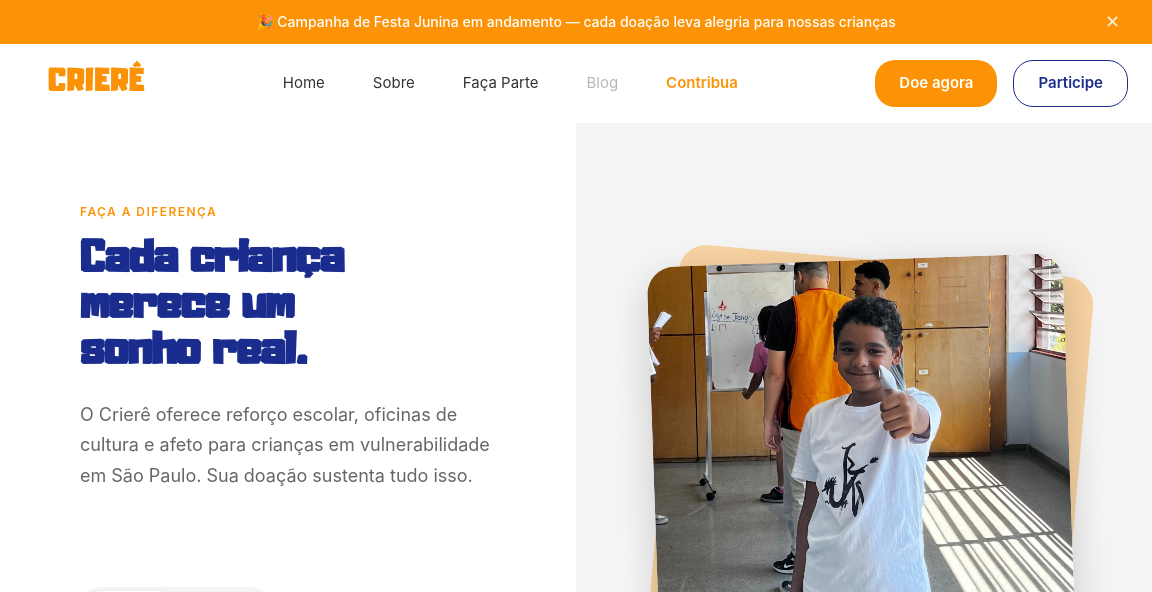
Test case: Donation page — campaign banner › hides the banner when the close button is clicked
The width and height of the screenshot is (1152, 592).
Click the button named "Fechar aviso" at (1112, 22), box [1097,9,1128,35]
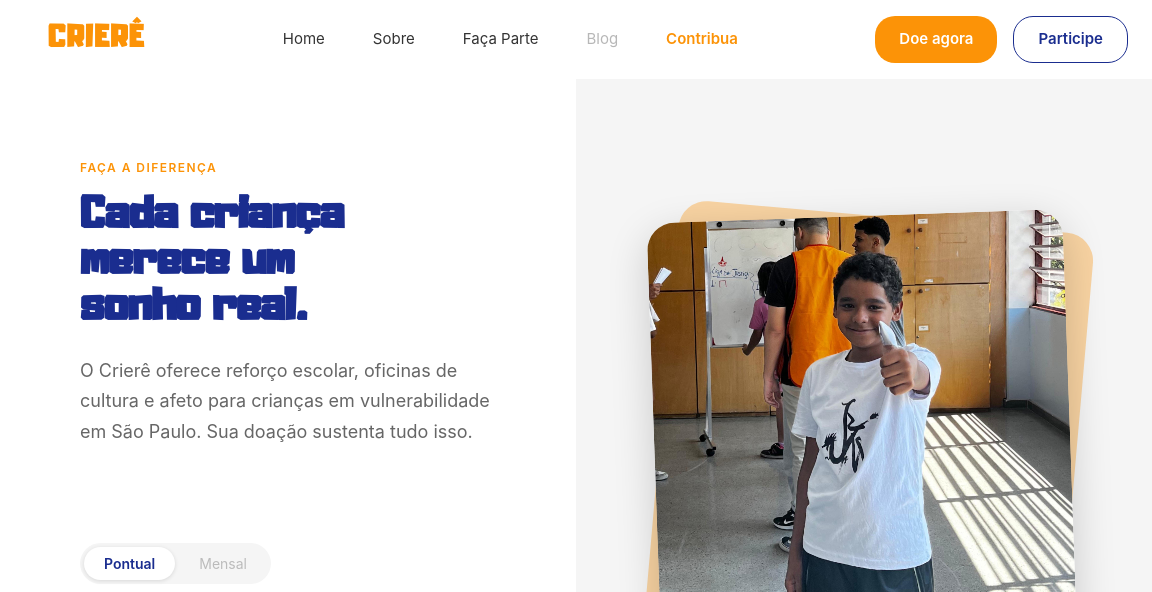
Expected: the text "Campanha de Festa Junina" is gone
